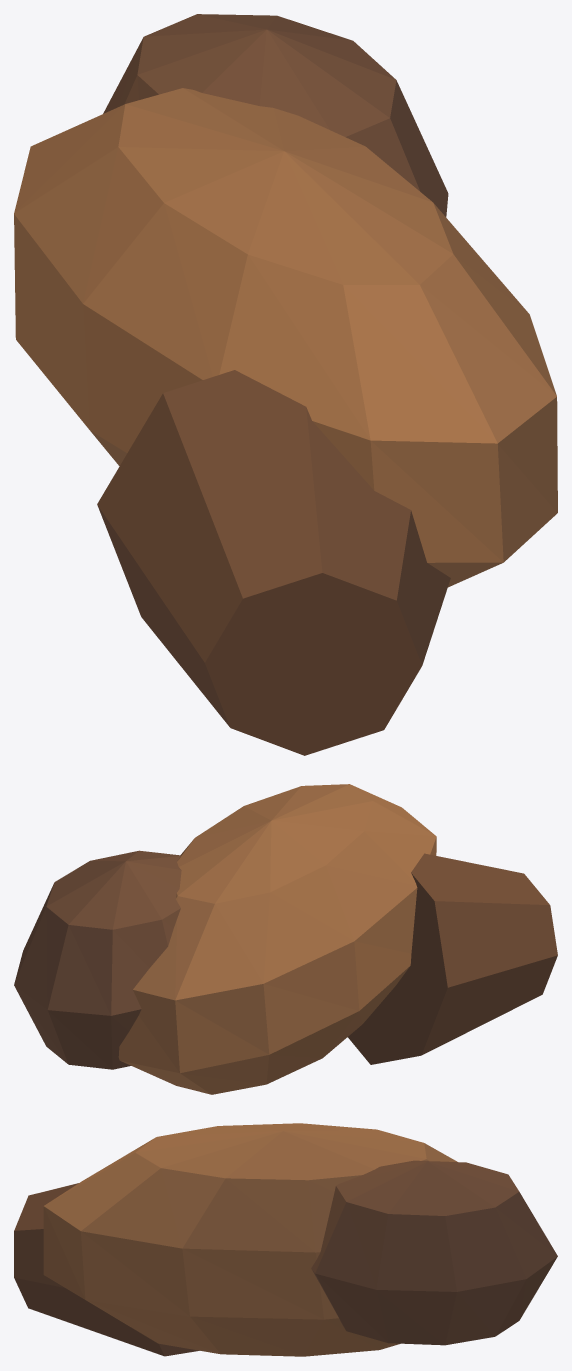
Rendered from tail.glb.
3 renders of one model, top to bottom at view 1: azimuth 30°, elevation 25°; view 2: azimuth 150°, elevation 25°; view 3: azimuth 270°, elevation 25°, orthographic. The views are drawn at different scales.
Parts seen in each view (by area): view 1: Tanuki · buschiger Schweif; view 2: Tanuki · buschiger Schweif; view 3: Tanuki · buschiger Schweif.
Boxes of the visible parts, box(x1,y1,x2,y2) form: Tanuki · buschiger Schweif: box(14, 14, 557, 755); Tanuki · buschiger Schweif: box(14, 784, 557, 1094); Tanuki · buschiger Schweif: box(14, 1123, 557, 1356).
Size of the model in its own units: 0.4763 by 0.374 by 0.7554.
